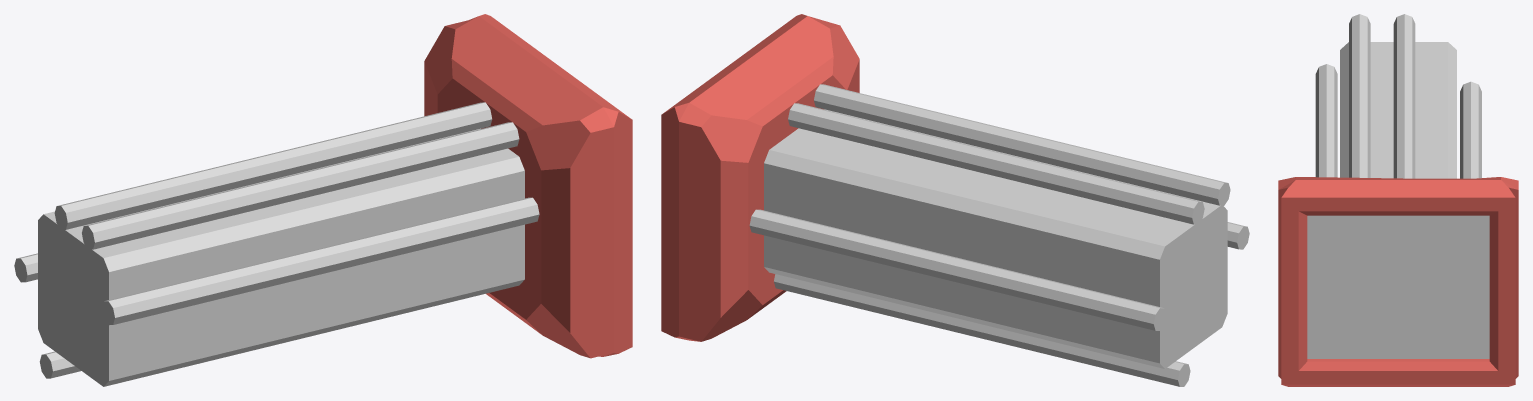
Rendered from Frame 3.fbx.
3 views of the same model, side by side, from view 1: azimuth 30°, elevation 25°; view 2: azimuth 150°, elevation 25°; view 3: azimuth 270°, elevation 25° (orthographic). The views are drawn at different scales.
Parts seen in each view (by area): view 1: Cube; view 2: Cube; view 3: Cube.
Part boxes in pixels (<box>): Cube: <box>14,14,632,386</box>; Cube: <box>661,14,1249,386</box>; Cube: <box>1278,14,1518,386</box>.
Bounding box in the file's own units: 393 × 189 × 200.
